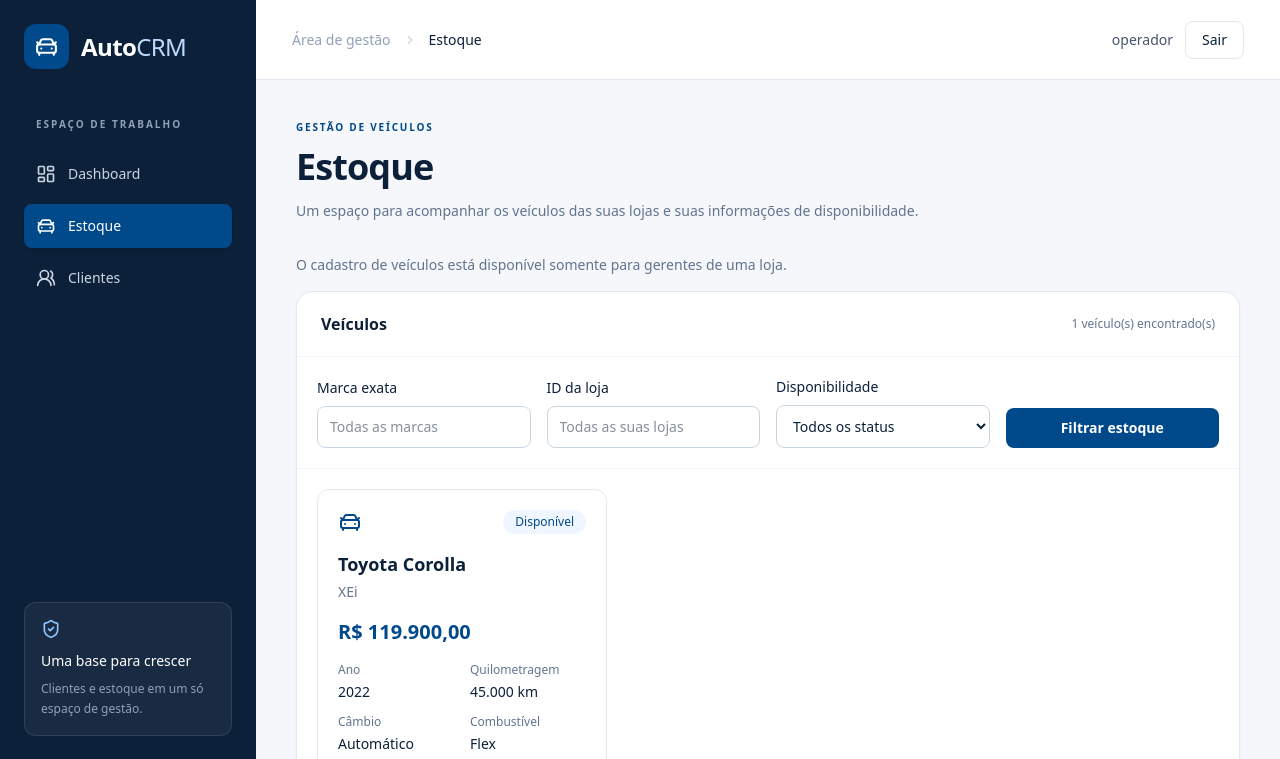
Test case: sessão e proteção das rotas › mantém o usuário na tela e informa falha de logout
The image size is (1280, 759).
Click the button "Sair" at (1215,40), box [1185, 20, 1244, 58]
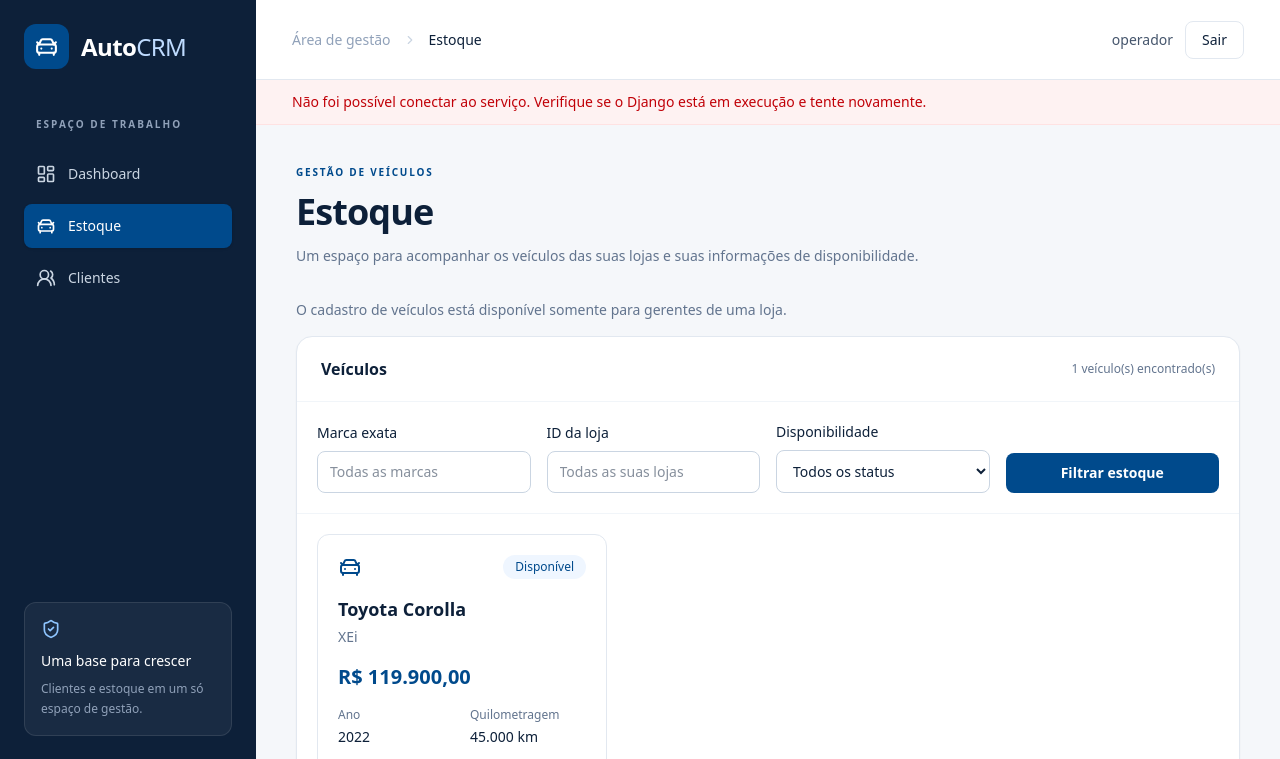
Expected: the message shows "Não foi possível conectar", [292, 92, 926, 111]
